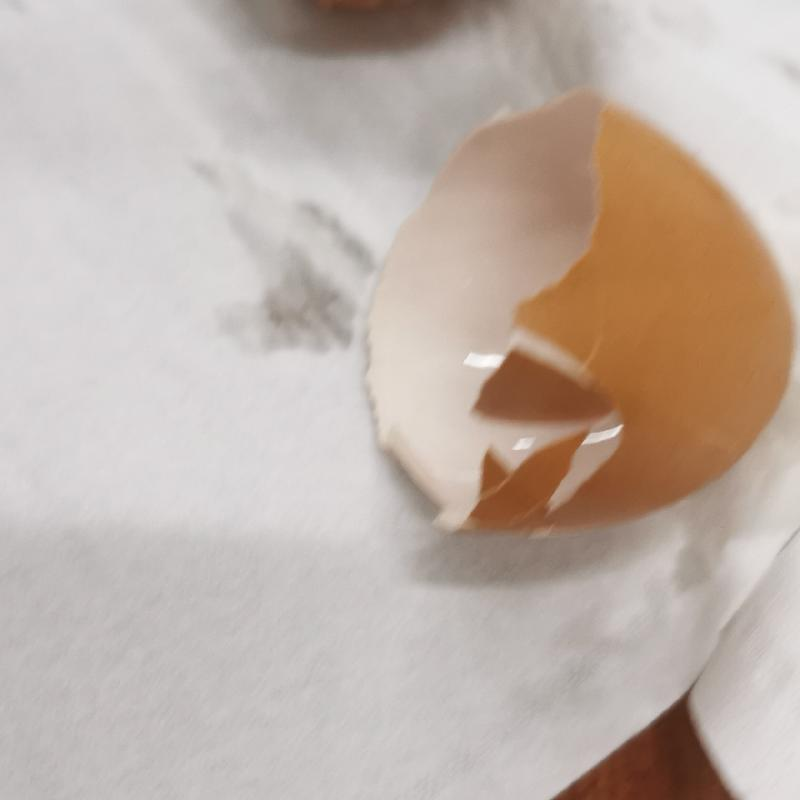eggshell: (359, 91, 800, 538)
